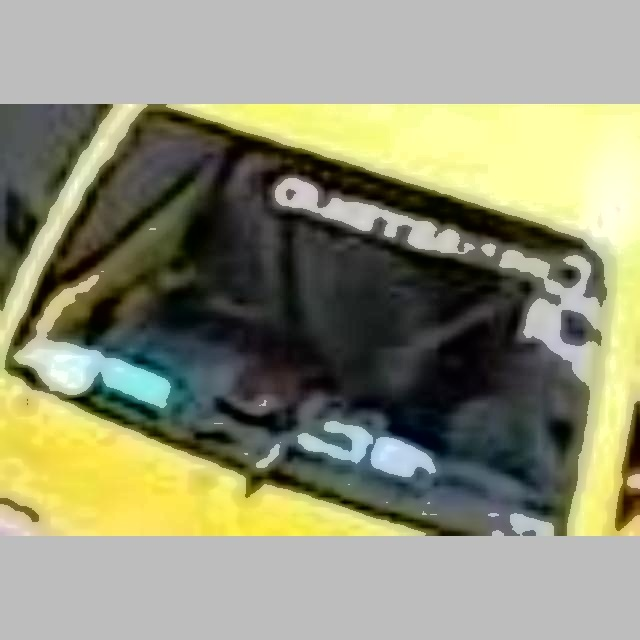pakai: (189, 147, 402, 415)
